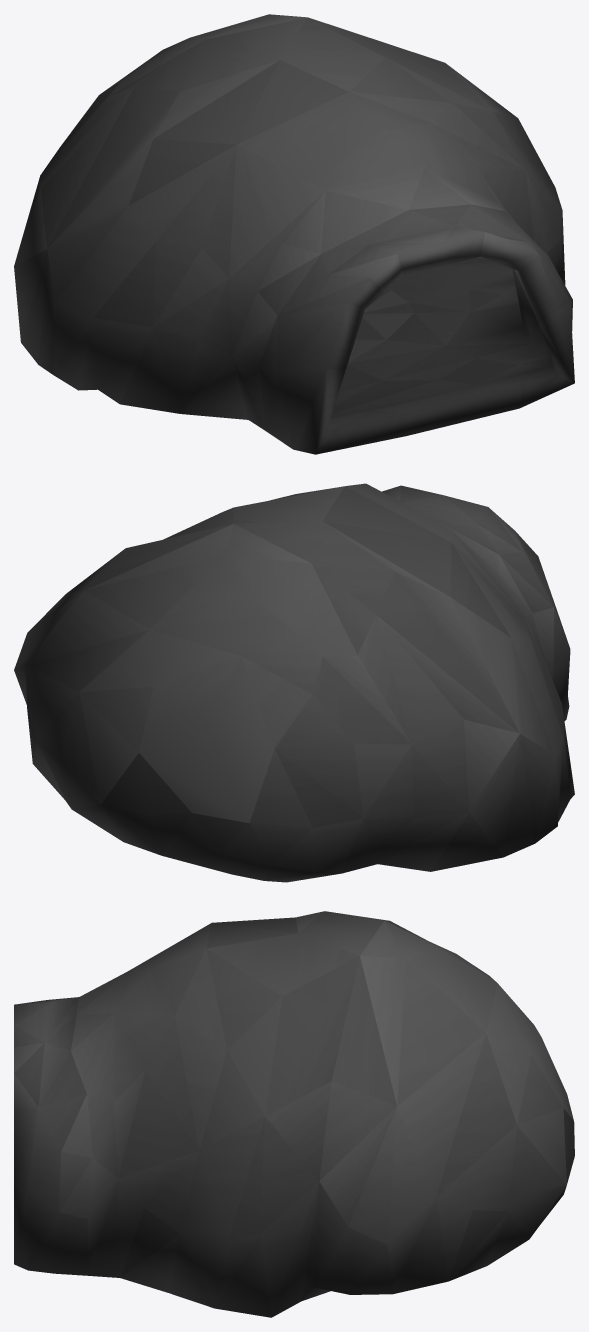
Rendered from GL-Cave-part-07.fbx.
The picture shows the model from 3 angles, top to bottom: view 1: azimuth 30°, elevation 25°; view 2: azimuth 150°, elevation 25°; view 3: azimuth 270°, elevation 25°; orthographic projection.
Parts seen in each view (by area): view 1: GL-Cave-part-07; view 2: GL-Cave-part-07; view 3: GL-Cave-part-07.
Part boxes in pixels (<box>): GL-Cave-part-07: <box>14,14,574,454</box>; GL-Cave-part-07: <box>14,483,574,882</box>; GL-Cave-part-07: <box>14,911,574,1317</box>.
Size of the model in its own units: 6.54 by 3.4 by 6.3.
